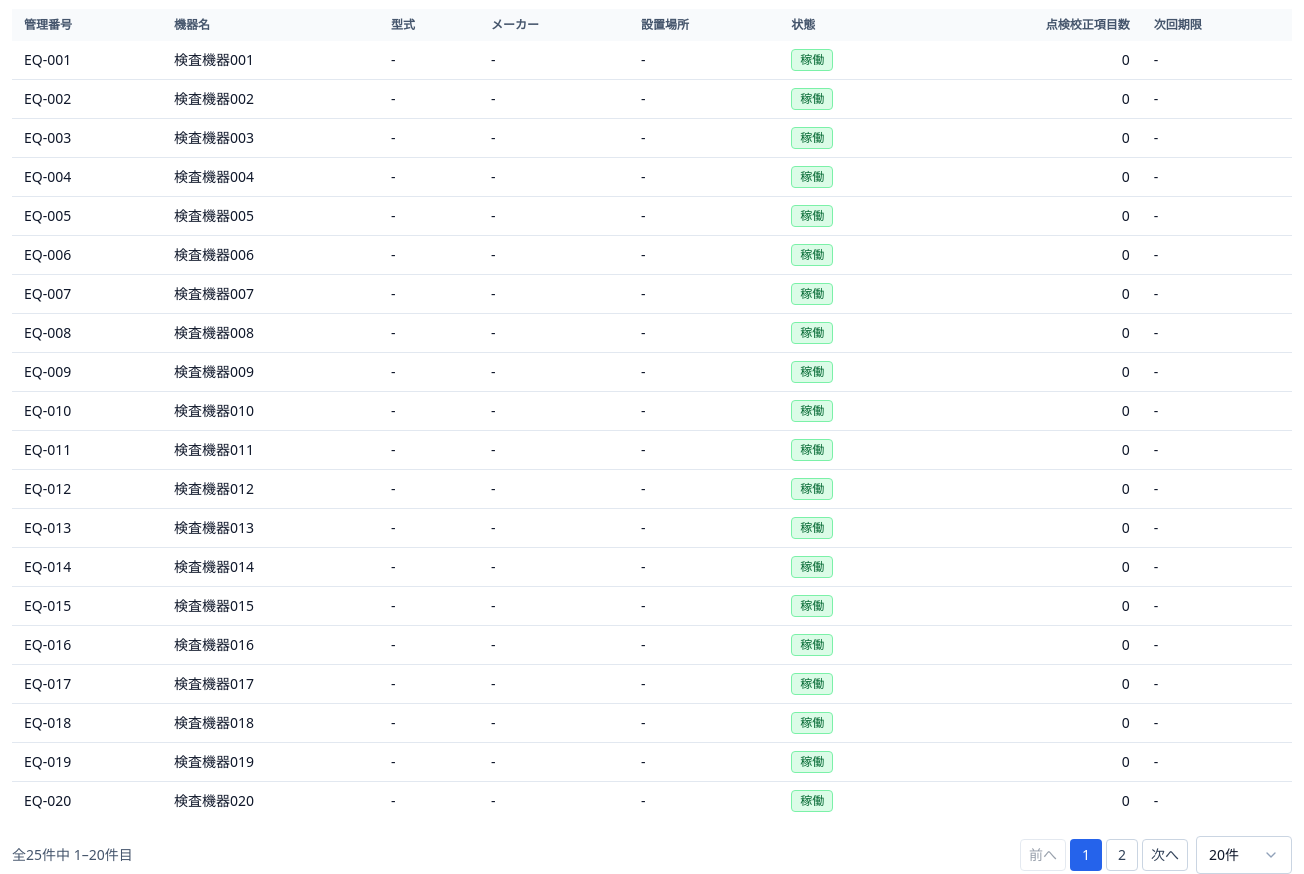
Test: EquipmentList: ページネーション › 検索語変更で1ページ目へ戻る
(page scrolled)
Click the button "次へ". click: (1165, 855)
box: [1142,839,1188,871]
(page scrolled)
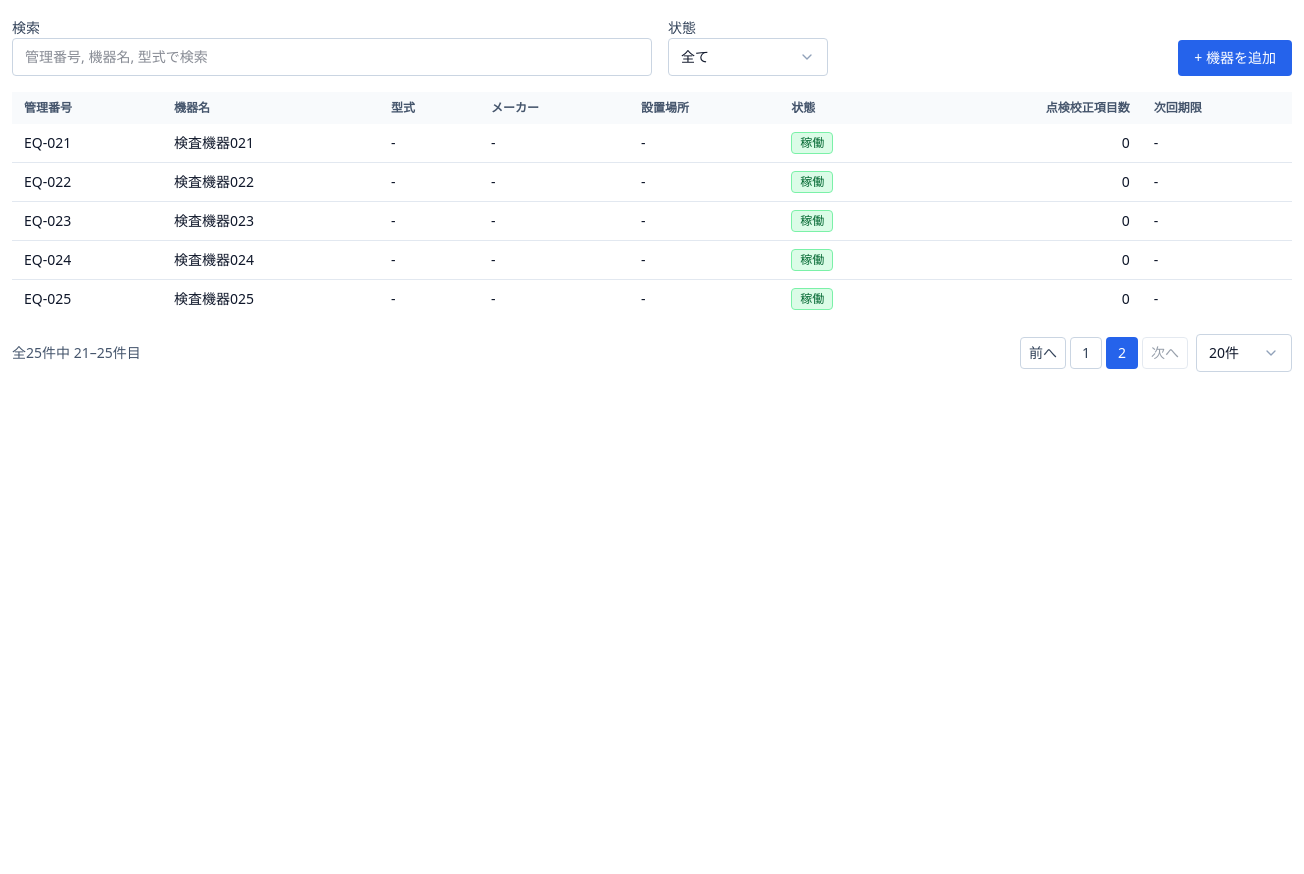
Expected: the text "EQ-021" is shown, [24,133,71,152]
Type "検査機器" into the field labelled "検索". click: (332, 57)
box: [12,38,652,76]
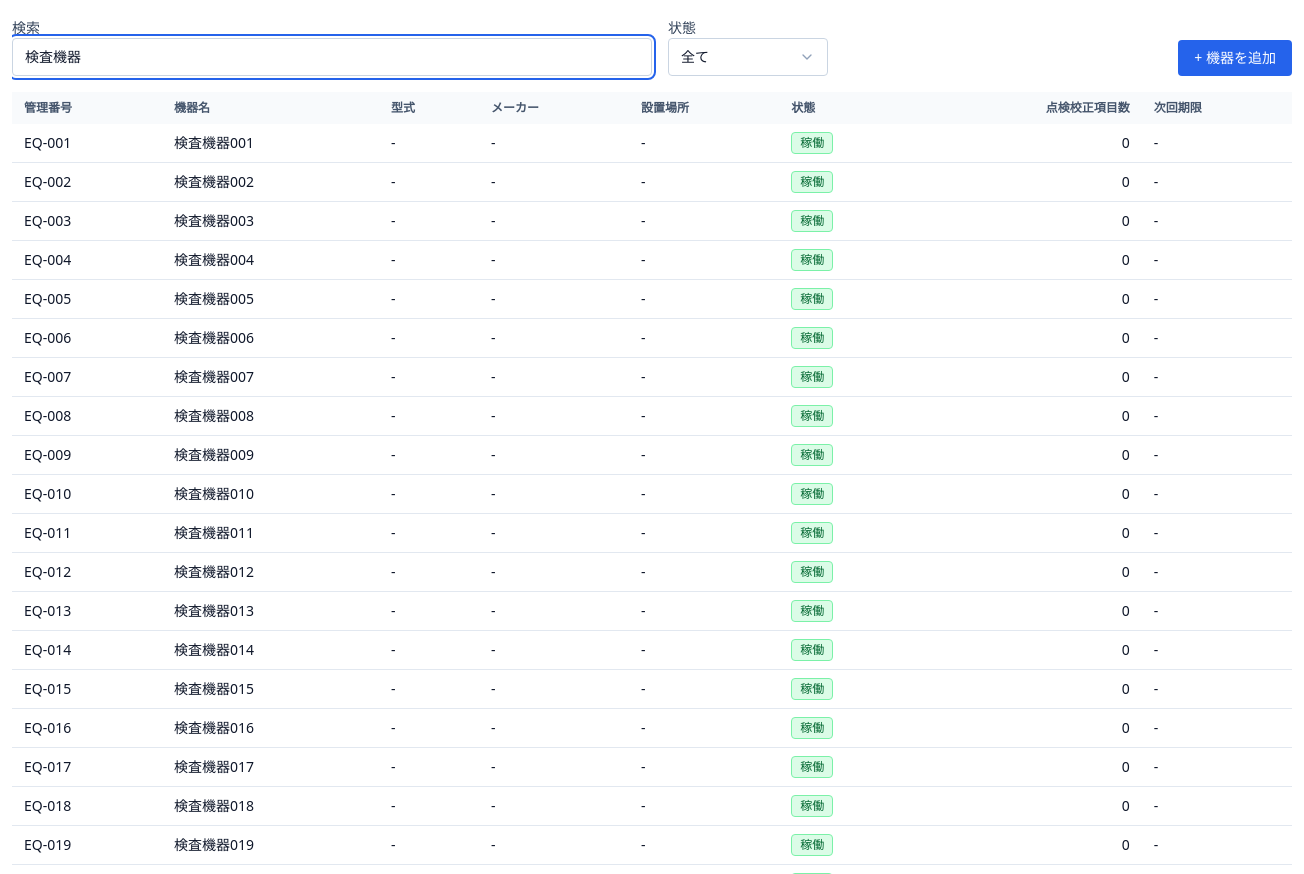
Expected: the text "EQ-001" is shown, [24,133,71,152]
Expected: the text "EQ-021" is gone
